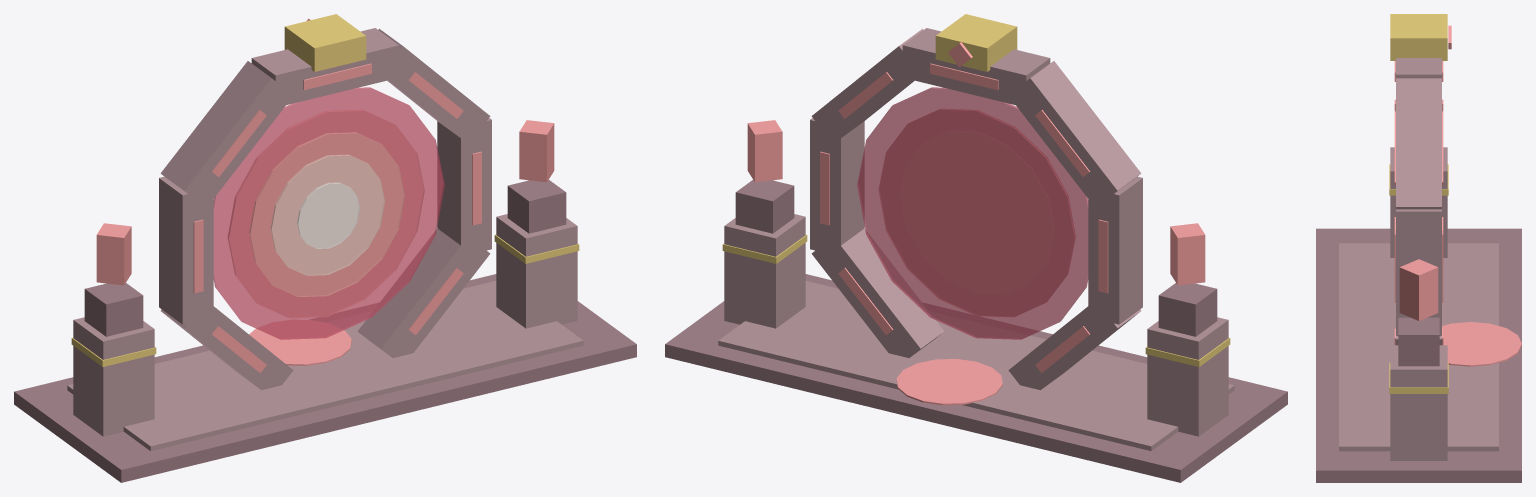
The model's file is ArenaPortal.fbx.
3 views of the same model, side by side, from view 1: azimuth 30°, elevation 25°; view 2: azimuth 150°, elevation 25°; view 3: azimuth 270°, elevation 25° (orthographic). The views are drawn at different scales.
Parts seen in each view (by area): view 1: Portal_Swirl.005, Base.003, Portal_Swirl.006, Base.002, Portal_Swirl.007, Portal_Swirl.008, Pylon.004, Ring.013, Pylon.006, Ring.010, Ring.012, Ring.009 (+19 smaller); view 2: Portal_Swirl.005, Portal_Swirl.006, Base.003, Base.002, Pylon.004, Ring.013, Pylon.006, Ring.010, Ring.012, Ring.009, Ring.007, Base_Rune.001 (+16 smaller); view 3: Base.003, Base.002, Ring.008, Pylon.006, Ring.009, Base_Rune.001, Keystone.001, Pylon_Crystal.003, Pylon.007, Pylon.004, Ring.007, Pylon_Band.003.
Part boxes in pixels (left/top/right/bottom): Portal_Swirl.005: left=213, top=87, right=444, bottom=339; Base.003: left=67, top=281, right=583, bottom=451; Portal_Swirl.006: left=228, top=110, right=424, bottom=318; Base.002: left=14, top=274, right=636, bottom=482; Portal_Swirl.007: left=249, top=132, right=404, bottom=296; Portal_Swirl.008: left=270, top=155, right=384, bottom=275; Pylon.004: left=73, top=317, right=154, bottom=436; Ring.013: left=160, top=61, right=292, bottom=204; Pylon.006: left=496, top=214, right=577, bottom=328; Ring.010: left=357, top=228, right=490, bottom=357; Ring.012: left=159, top=176, right=213, bottom=324; Ring.009: left=437, top=118, right=491, bottom=256; Portal_Swirl.005: left=857, top=87, right=1088, bottom=339; Portal_Swirl.006: left=879, top=109, right=1075, bottom=316; Base.003: left=718, top=281, right=1234, bottom=451; Base.002: left=665, top=274, right=1287, bottom=482; Pylon.004: left=1147, top=317, right=1228, bottom=436; Ring.013: left=1009, top=61, right=1141, bottom=206; Pylon.006: left=724, top=214, right=805, bottom=328; Ring.010: left=811, top=228, right=944, bottom=357; Ring.012: left=1088, top=176, right=1142, bottom=324; Ring.009: left=810, top=118, right=864, bottom=256; Ring.007: left=902, top=28, right=1050, bottom=107; Base_Rune.001: left=896, top=359, right=1002, bottom=405; Base.003: left=1339, top=243, right=1498, bottom=451; Base.002: left=1316, top=228, right=1521, bottom=482; Ring.008: left=1396, top=78, right=1441, bottom=209; Pylon.006: left=1390, top=345, right=1447, bottom=460; Ring.009: left=1396, top=209, right=1441, bottom=335; Base_Rune.001: left=1442, top=322, right=1521, bottom=366; Keystone.001: left=1390, top=14, right=1447, bottom=60; Pylon_Crystal.003: left=1399, top=259, right=1438, bottom=320; Pylon.007: left=1398, top=317, right=1439, bottom=366; Pylon.004: left=1390, top=147, right=1447, bottom=257; Ring.007: left=1396, top=58, right=1441, bottom=78; Pylon_Band.003: left=1389, top=362, right=1448, bottom=393.
Size of the model in its own units: 1400 by 908 by 504.
